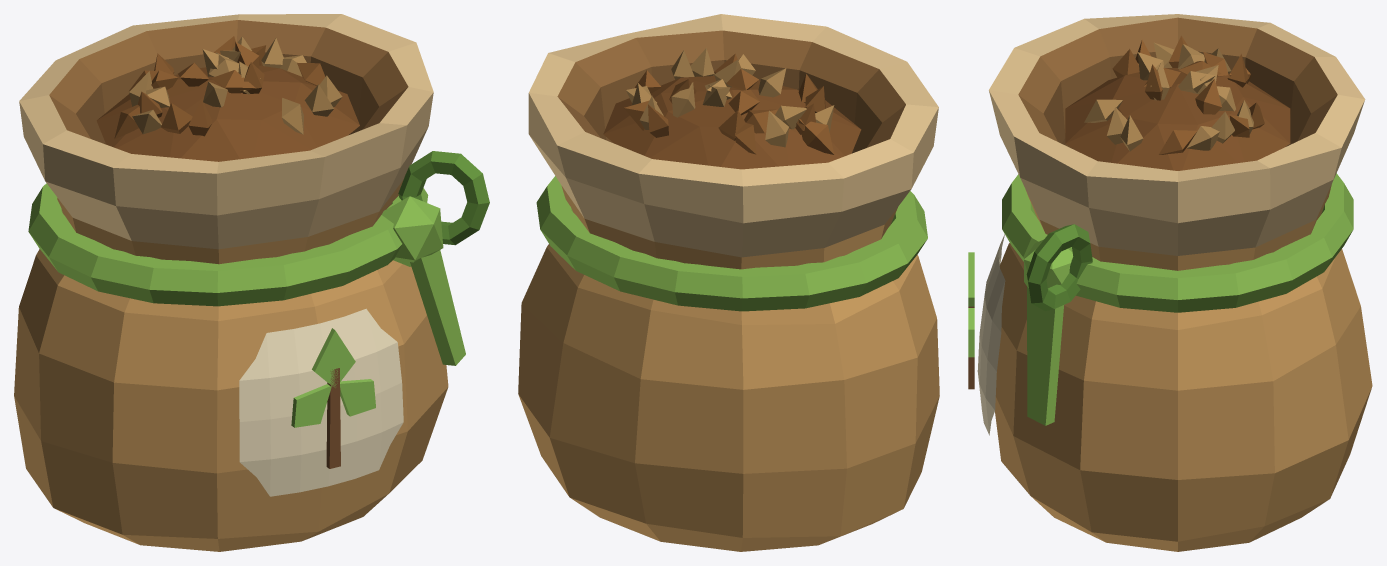
Rendered from SeedBag_Stylized.fbx.
3 renders of one model, left to right at view 1: azimuth 30°, elevation 25°; view 2: azimuth 150°, elevation 25°; view 3: azimuth 270°, elevation 25°, orthographic. The views are drawn at different scales.
Parts seen in each view (by area): view 1: Tool_SeedBag, Bag_Seeds; view 2: Tool_SeedBag, Bag_Seeds; view 3: Tool_SeedBag, Bag_Seeds.
Boxes of the visible parts, x1=… form: Tool_SeedBag: x1=14, y1=14, x2=489, y2=551; Bag_Seeds: x1=96, y1=36, x2=359, y2=161; Tool_SeedBag: x1=518, y1=14, x2=939, y2=551; Bag_Seeds: x1=603, y1=48, x2=861, y2=169; Tool_SeedBag: x1=968, y1=14, x2=1372, y2=551; Bag_Seeds: x1=1065, y1=35, x2=1290, y2=170.
Bounding box in the file's own units: 0.1852 × 0.2018 × 0.1743.
